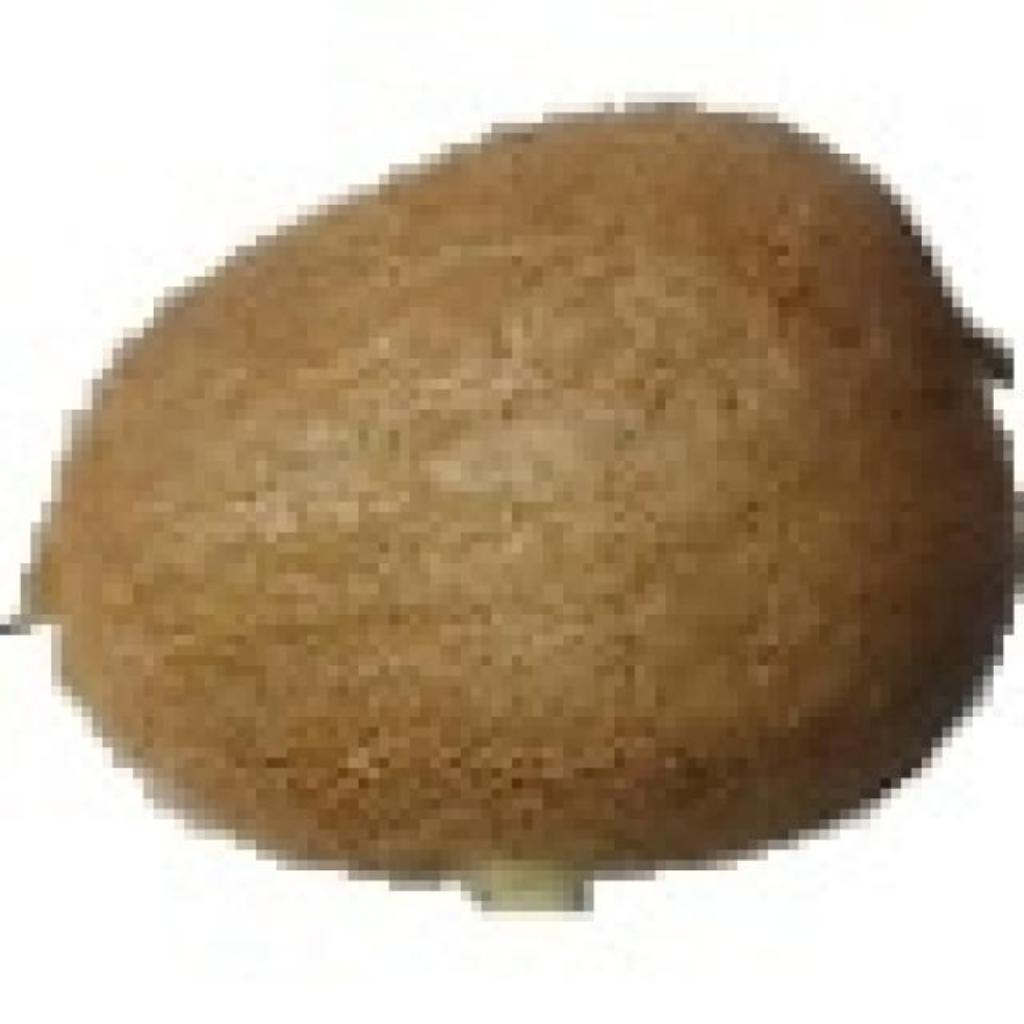kiwi: (20, 92, 993, 881)
